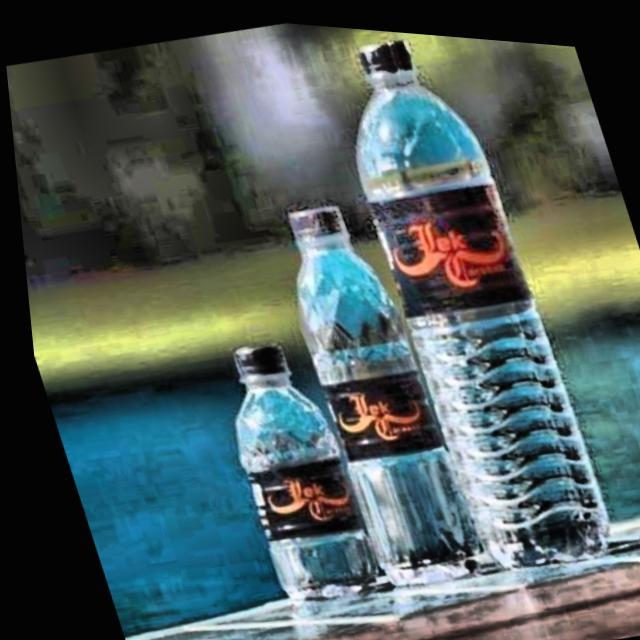Bottles: (297, 19, 628, 593)
